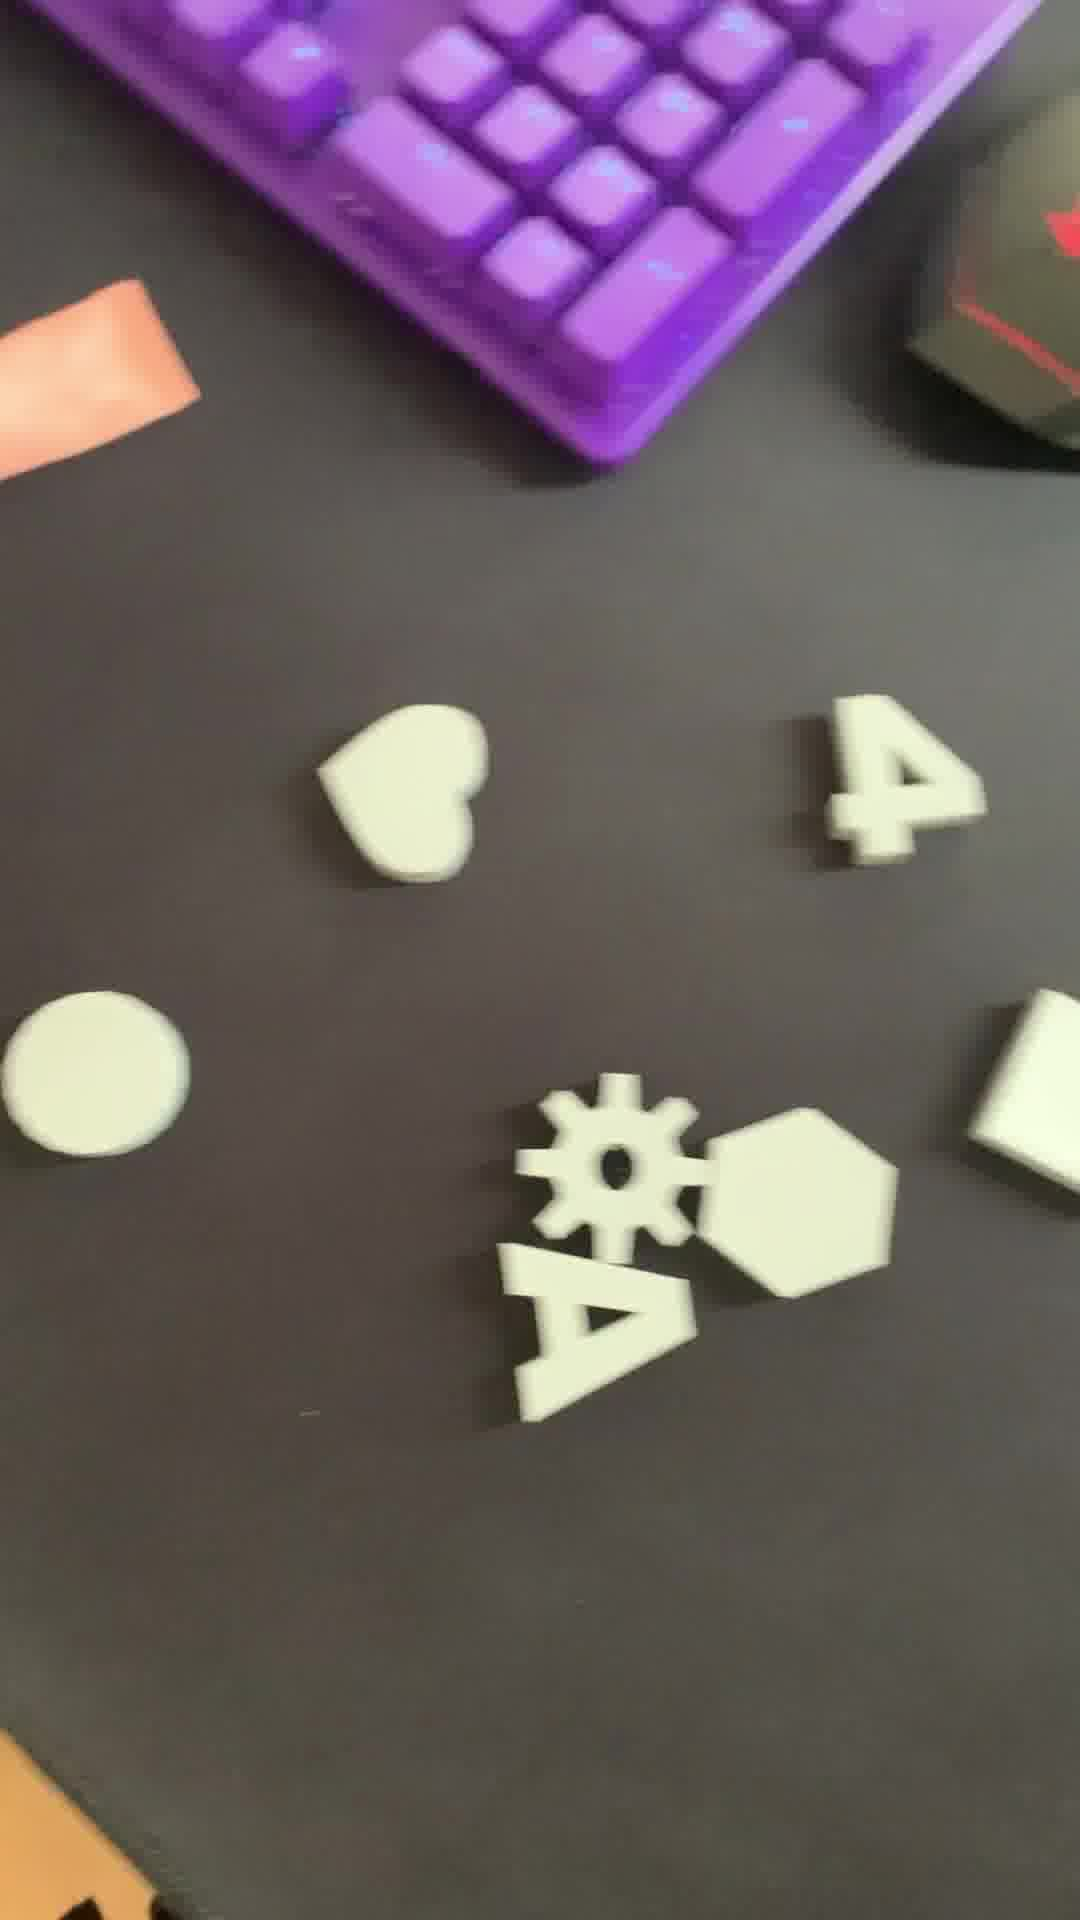Gray A-letter: (500, 1246, 690, 1429)
Gray circle: (1, 986, 181, 1174)
Gray four: (819, 694, 988, 880)
Gray gear: (520, 1071, 719, 1269)
Gray heart: (302, 688, 504, 916)
Gray hexagon: (696, 1102, 906, 1307)
Gray square: (964, 977, 1080, 1197)
